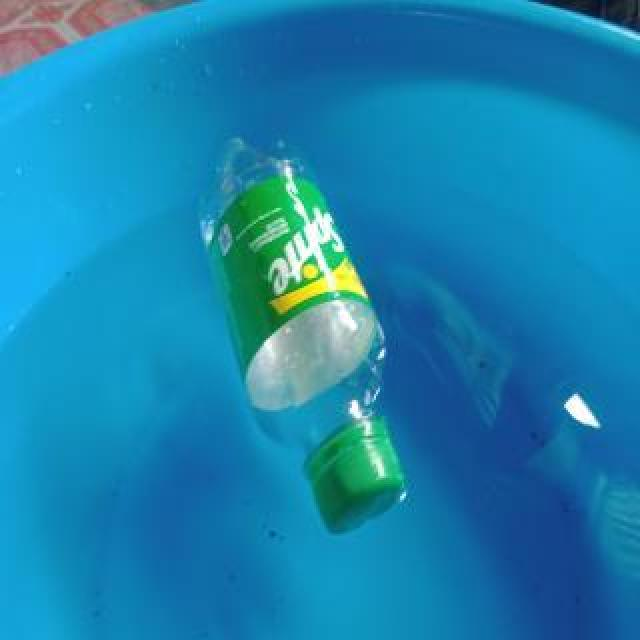bottle: (191, 126, 409, 538)
